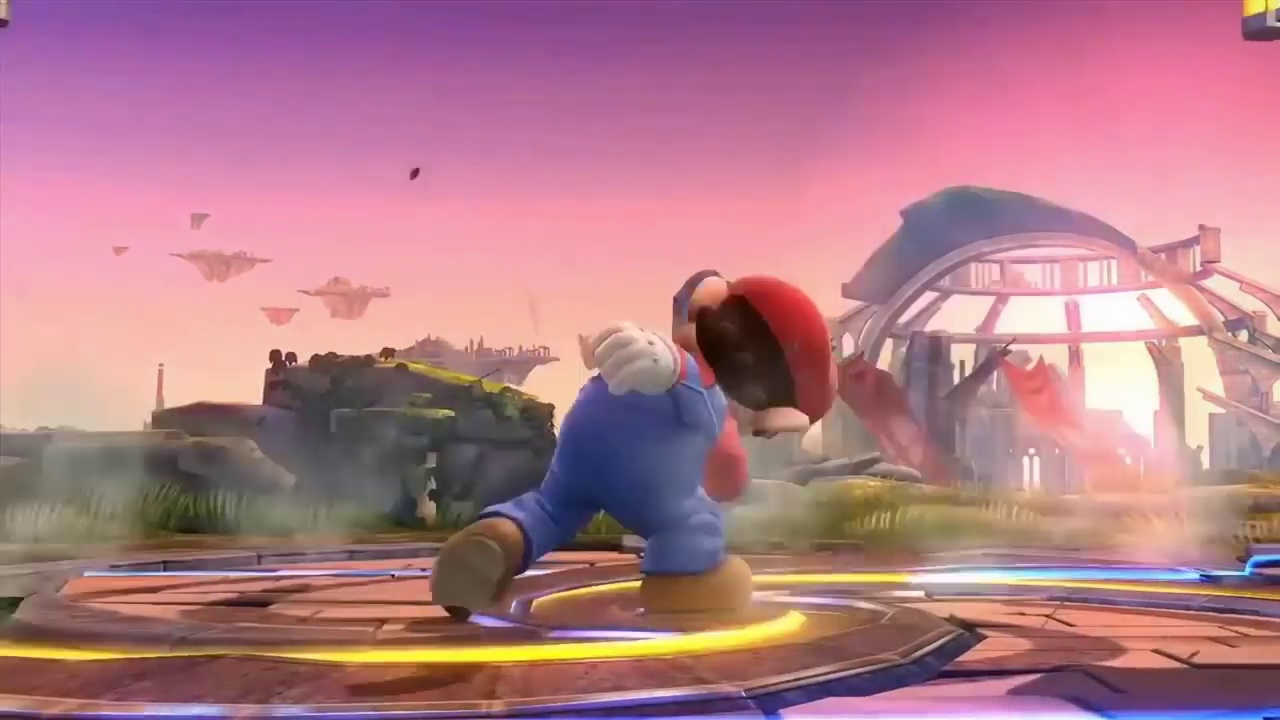Mario: (432, 274, 834, 613)
